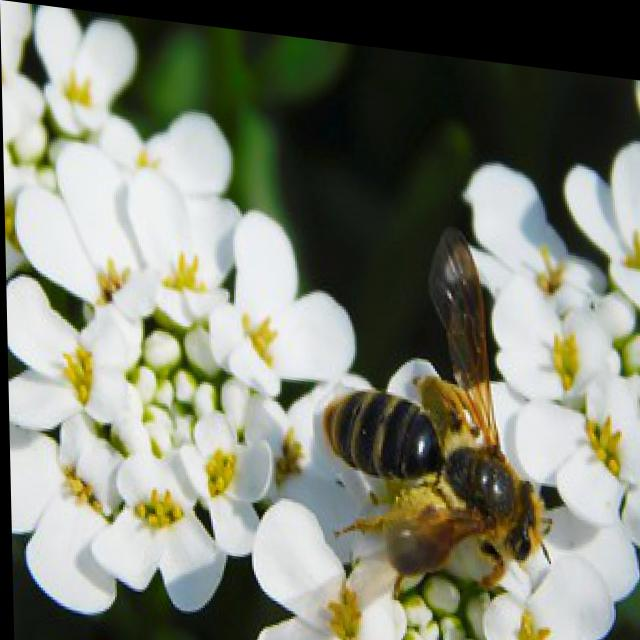Guepe: (306, 183, 558, 630)
